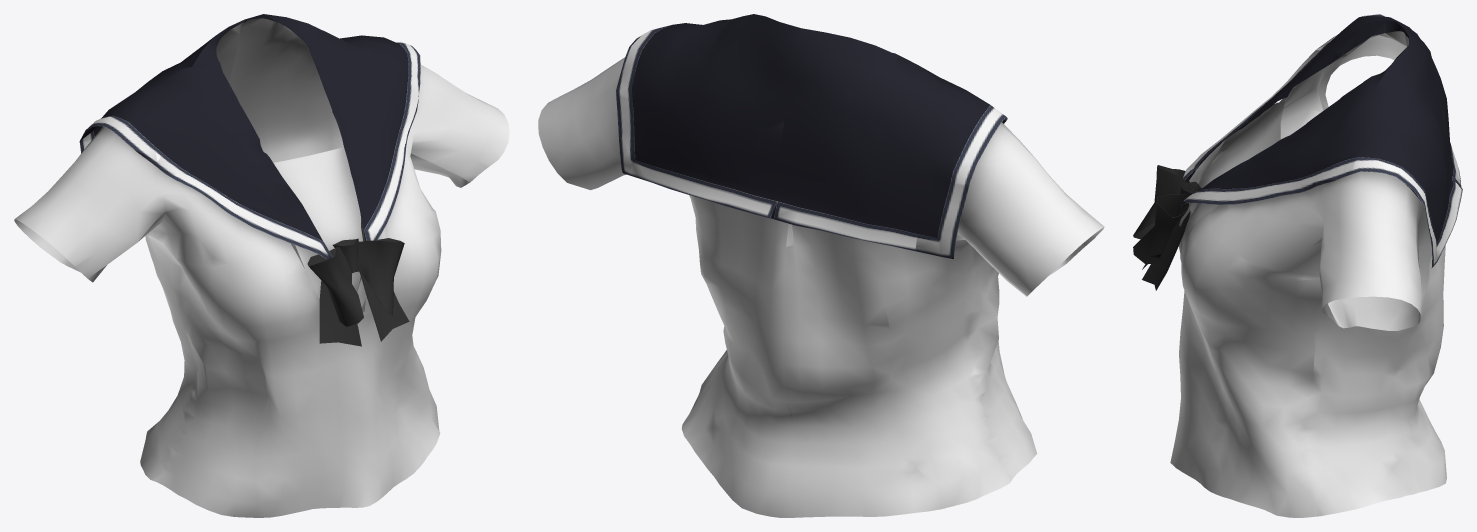
The model's file is Uniform_Top.fbx.
3 views of the same model, side by side, from view 1: azimuth 30°, elevation 25°; view 2: azimuth 150°, elevation 25°; view 3: azimuth 270°, elevation 25° (orthographic). The views are drawn at different scales.
Visible parts, largest first — view 1: Uniform_C_5_Up; view 2: Uniform_C_5_Up; view 3: Uniform_C_5_Up.
Part boxes in pixels (left/top/right/bottom): Uniform_C_5_Up: left=14, top=14, right=509, bottom=517; Uniform_C_5_Up: left=538, top=14, right=1104, bottom=517; Uniform_C_5_Up: left=1133, top=14, right=1462, bottom=517.
Bounding box in the file's own units: 0.4459 × 0.3732 × 0.2582.
